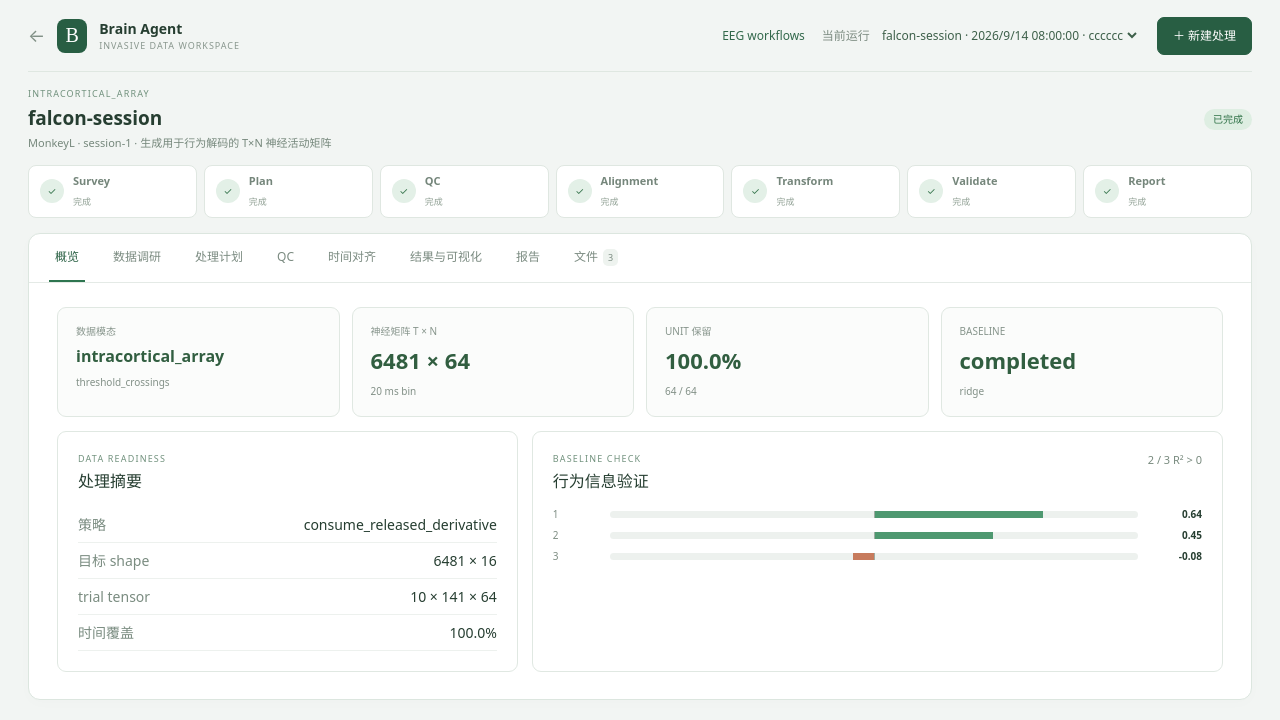
it: InvasiveWorkflowsView › restores a saved run and presents process, evidence, metrics, and files
The width and height of the screenshot is (1280, 720).
Click the button "数据调研" at (137, 258), box [107, 234, 167, 282]
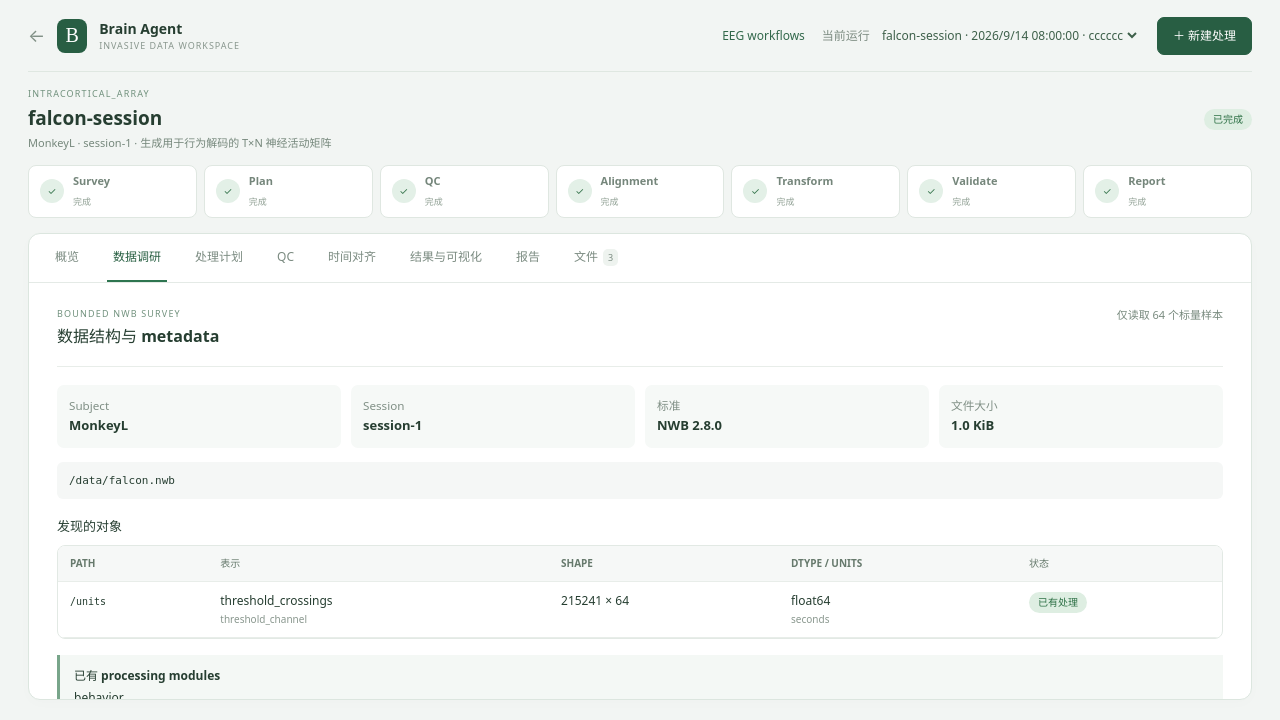
Result: the text "/units" is shown at [70, 596, 106, 607]
Click the button "结果与可视化" at (446, 258), box [404, 234, 488, 282]
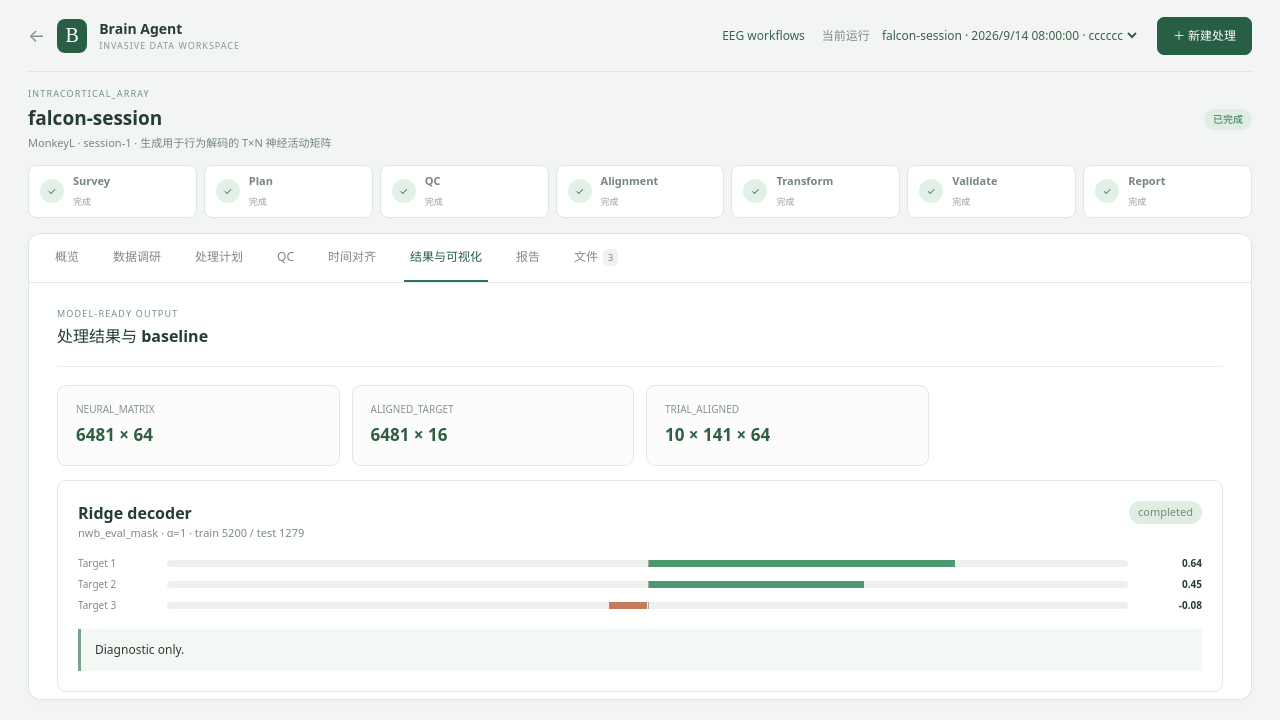
Result: the text "nwb_eval_mask" is shown at [78, 525, 304, 540]
Click the button "文件3" at (596, 258), box [568, 234, 624, 282]
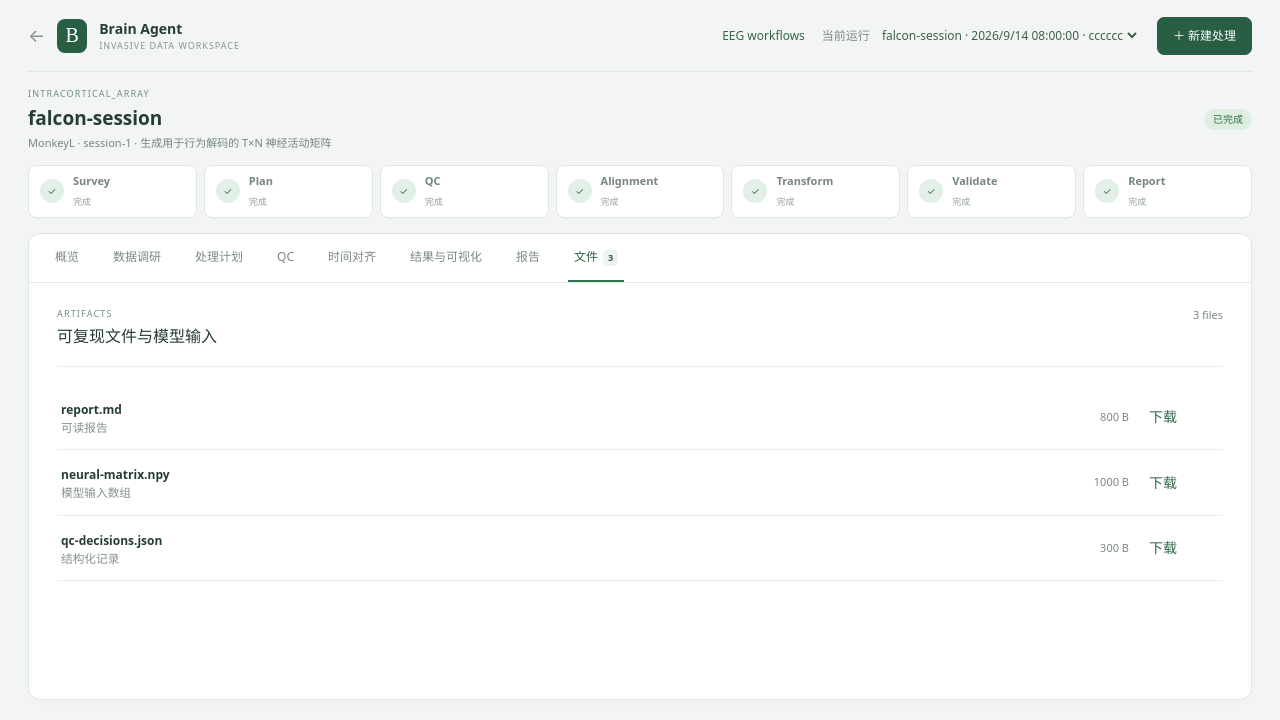
Result: the text "neural-matrix.npy" is shown at [61, 466, 170, 483]
